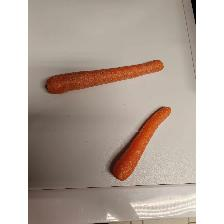Karotte: (112, 106, 172, 182), (44, 59, 164, 95)
